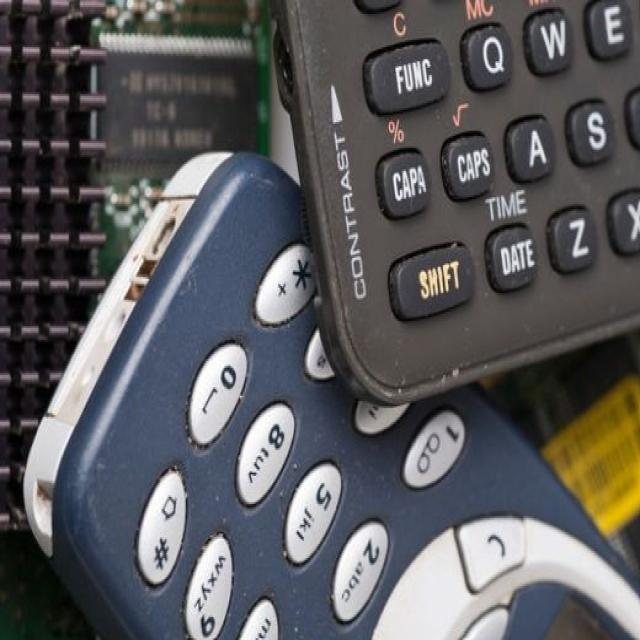electronic: (9, 137, 640, 640), (192, 0, 639, 410)
